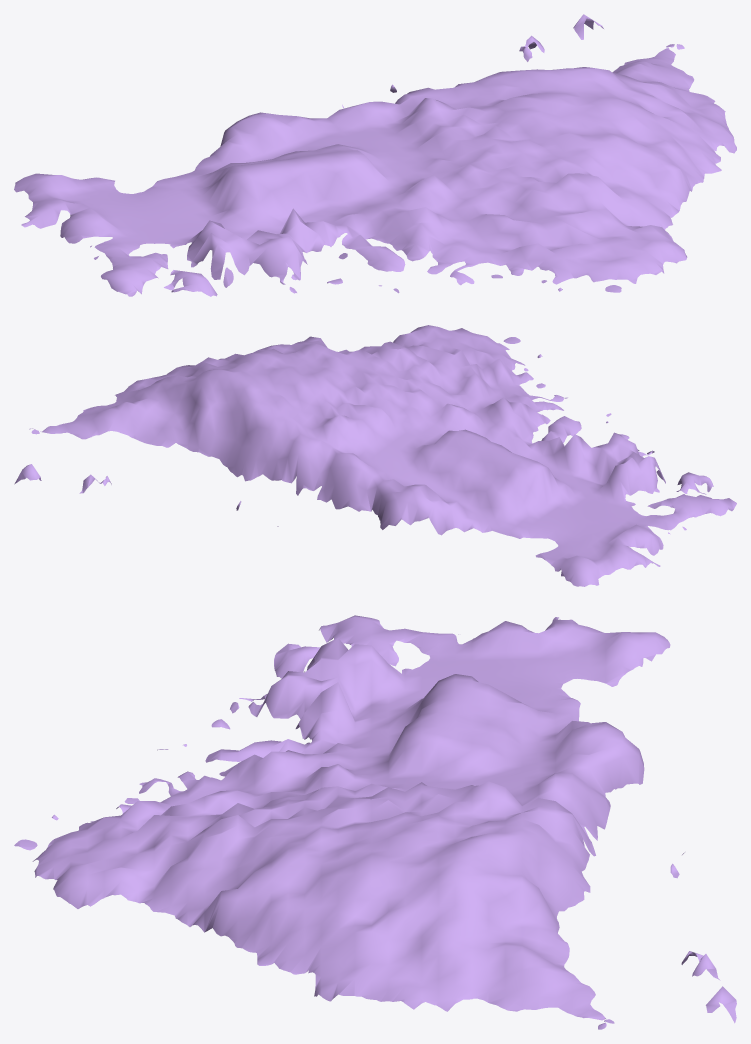
File: triassic.dae
3 renders of one model, top to bottom at view 1: azimuth 30°, elevation 25°; view 2: azimuth 150°, elevation 25°; view 3: azimuth 270°, elevation 25°, orthographic. The views are drawn at different scales.
Visible parts, largest first — view 1: Object, Object_007; view 2: Object, Object_007; view 3: Object, Object_007.
Boxes of the visible parts, x1=… form: Object: x1=14, y1=47, x2=736, y2=296; Object_007: x1=164, y1=270, x2=217, y2=296; Object: x1=40, y1=325, x2=736, y2=586; Object_007: x1=676, y1=472, x2=713, y2=494; Object: x1=32, y1=615, x2=670, y2=1020; Object_007: x1=274, y1=643, x2=320, y2=678.
Bounding box in the file's own units: 22.59 × 16.77 × 2.32.
